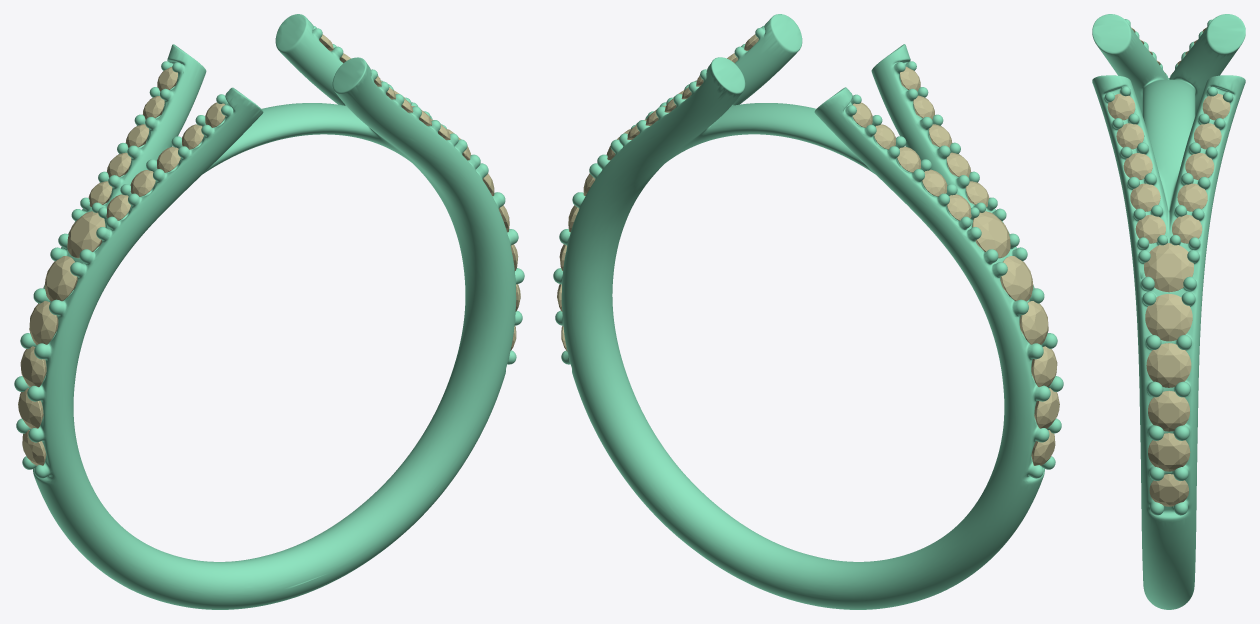
3 renders of one model, left to right at view 1: azimuth 30°, elevation 25°; view 2: azimuth 150°, elevation 25°; view 3: azimuth 270°, elevation 25°, orthographic.
Visible parts, largest first — view 1: Metal02, Diamond_Gem.016, Diamond_Gem.021, Diamond_Gem.020, Diamond_Gem.019, Diamond_Gem.018; view 2: Metal02, Diamond_Gem.016, Diamond_Gem.021, Diamond_Gem.020, Diamond_Gem.019, Diamond_Gem.018; view 3: Metal02, Diamond_Gem.015, Diamond_Gem.011, Diamond_Gem, Diamond_Gem.012, Diamond_Gem.013, Diamond_Gem.014, Diamond_Gem.007, Diamond_Gem.010, Diamond_Gem.008, Diamond_Gem.009, Diamond_Gem.001 (+5 smaller).
Part boxes in pixels (<box>): Metal02: <box>14,14,524,609</box>; Diamond_Gem.016: <box>67,211,105,258</box>; Diamond_Gem.021: <box>44,256,77,301</box>; Diamond_Gem.020: <box>29,301,58,344</box>; Diamond_Gem.019: <box>20,346,46,387</box>; Diamond_Gem.018: <box>18,388,43,428</box>; Metal02: <box>553,14,1063,609</box>; Diamond_Gem.016: <box>972,211,1010,258</box>; Diamond_Gem.021: <box>1000,256,1033,301</box>; Diamond_Gem.020: <box>1019,301,1048,344</box>; Diamond_Gem.019: <box>1031,346,1057,387</box>; Diamond_Gem.018: <box>1034,388,1059,428</box>; Metal02: <box>1092,14,1245,609</box>; Diamond_Gem.015: <box>1144,243,1193,292</box>; Diamond_Gem.011: <box>1145,294,1192,341</box>; Diamond_Gem: <box>1146,343,1191,387</box>; Diamond_Gem.012: <box>1148,390,1189,431</box>; Diamond_Gem.013: <box>1148,433,1190,471</box>; Diamond_Gem.014: <box>1149,474,1188,506</box>; Diamond_Gem.007: <box>1130,183,1160,211</box>; Diamond_Gem.010: <box>1177,183,1207,211</box>; Diamond_Gem.008: <box>1135,214,1165,243</box>; Diamond_Gem.009: <box>1172,214,1202,243</box>; Diamond_Gem.001: <box>1185,153,1214,179</box>.
Size of the model in its own units: 21.3 by 22.53 by 5.81.
